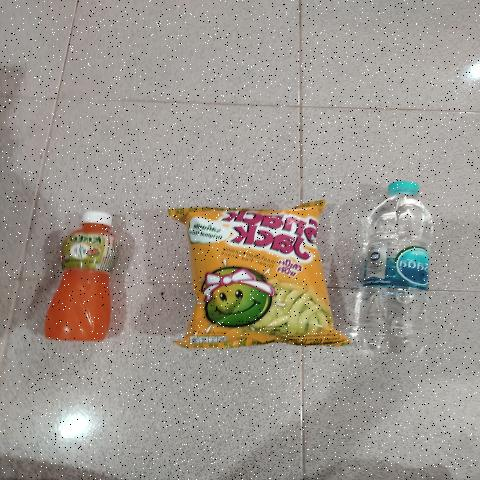crystal: (364, 183, 428, 348)
snack_jack: (195, 209, 319, 345)
